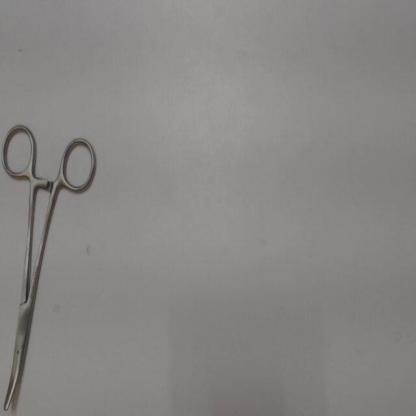Crile Artery Forceps: (2, 117, 104, 414)
